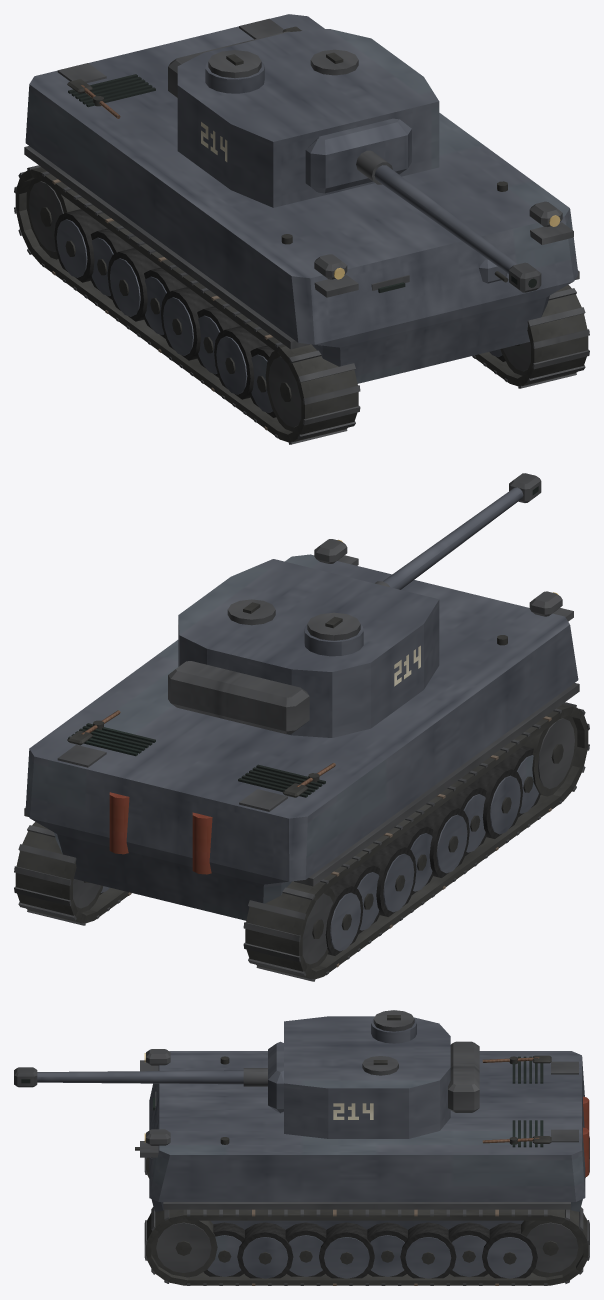
The model's file is tiger-i-field-grey.glb.
3 renders of one model, top to bottom at view 1: azimuth 30°, elevation 25°; view 2: azimuth 150°, elevation 25°; view 3: azimuth 270°, elevation 25°, orthographic. The views are drawn at different scales.
Visible parts, largest first — view 1: Tiger I | Feldgrau; view 2: Tiger I | Feldgrau; view 3: Tiger I | Feldgrau.
Boxes of the visible parts, x1=… form: Tiger I | Feldgrau: x1=14, y1=14, x2=589, y2=444; Tiger I | Feldgrau: x1=14, y1=473, x2=589, y2=981; Tiger I | Feldgrau: x1=14, y1=1010, x2=589, y2=1285.
Bounding box in the file's own units: 3.62 × 3.09 × 8.16.
Materials: 1 (1 with a texture image).
